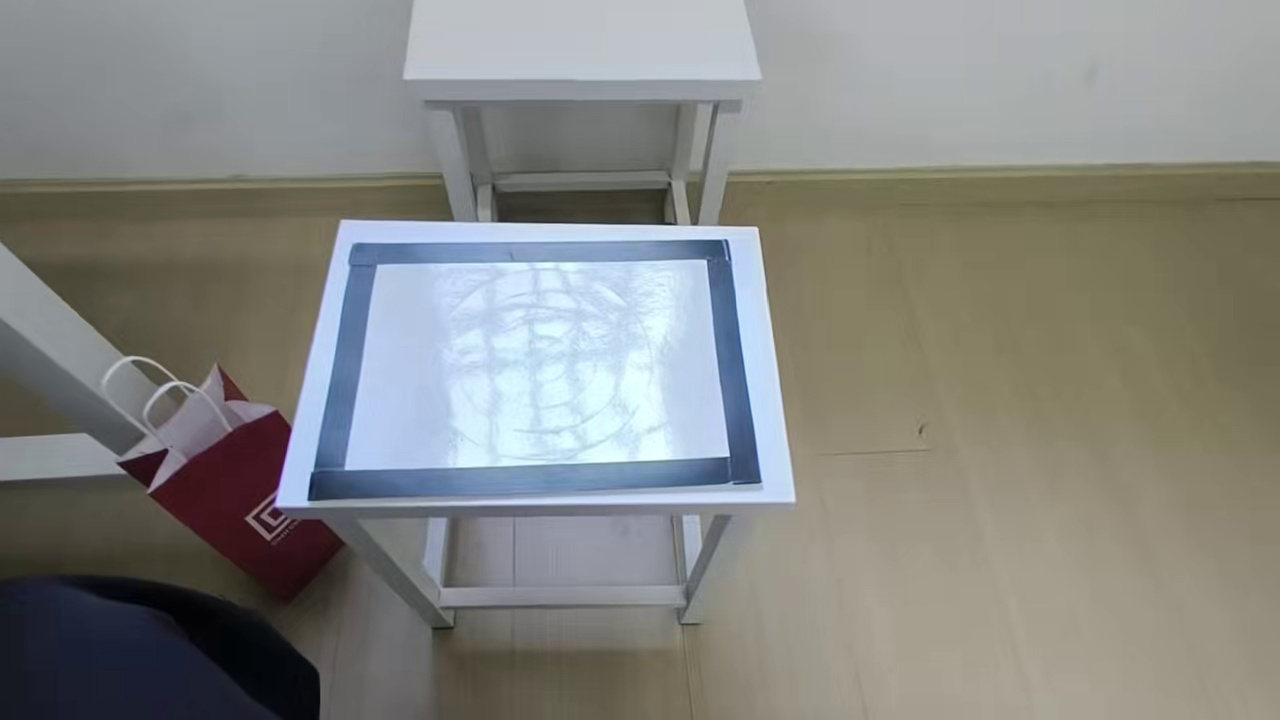board: (314, 241, 759, 499)
